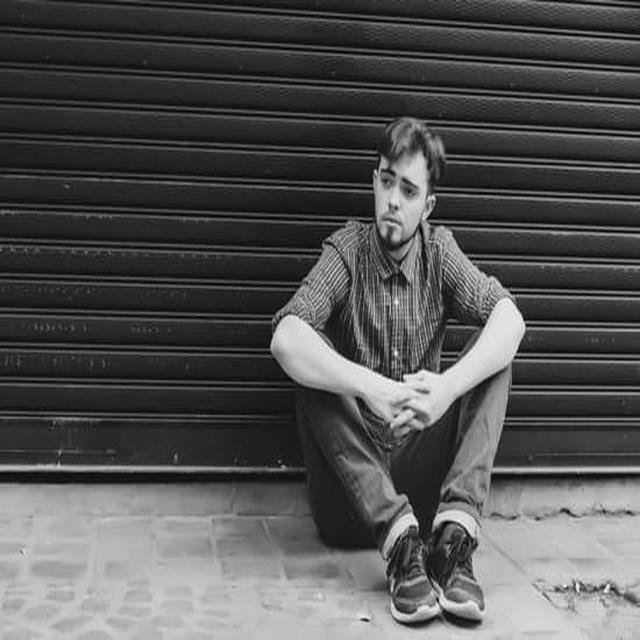Sadness: (374, 152, 426, 246)
